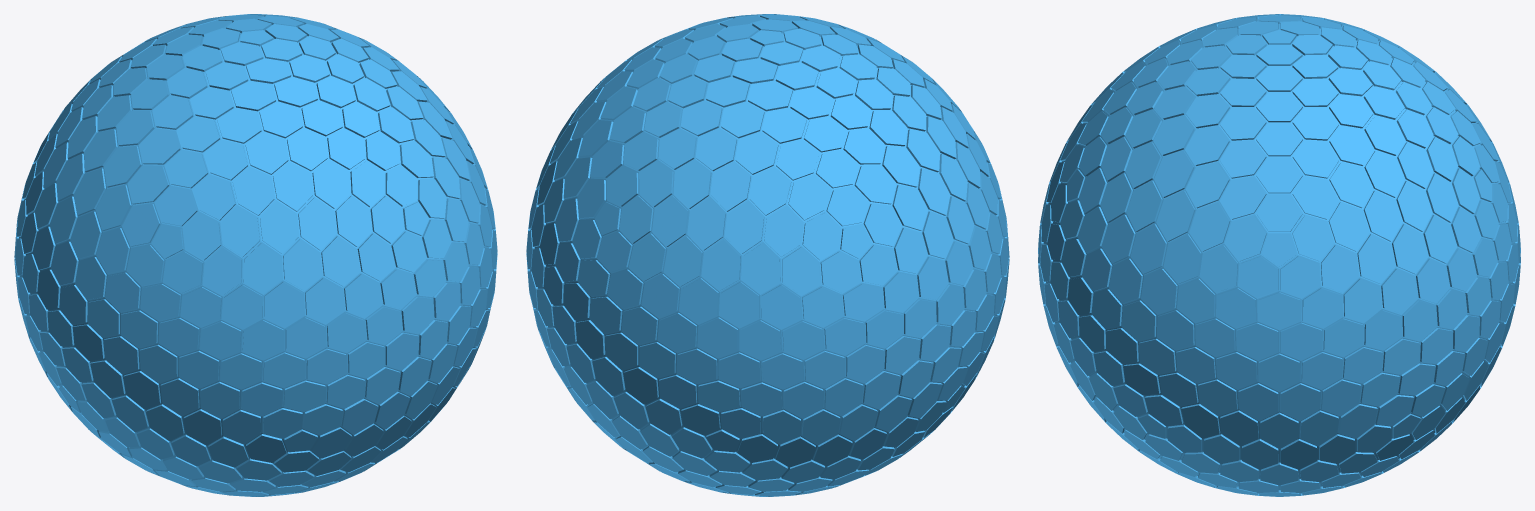
3 renders of one model, left to right at view 1: azimuth 30°, elevation 25°; view 2: azimuth 150°, elevation 25°; view 3: azimuth 270°, elevation 25°, orthographic.
Visible parts, largest first — view 1: Kuppel; view 2: Kuppel; view 3: Kuppel.
Boxes of the visible parts, x1,y1,x2,y2 form: Kuppel: [14, 14, 497, 496]; Kuppel: [526, 14, 1009, 496]; Kuppel: [1038, 14, 1520, 496].
Bounding box in the file's own units: 260 × 260 × 260.
